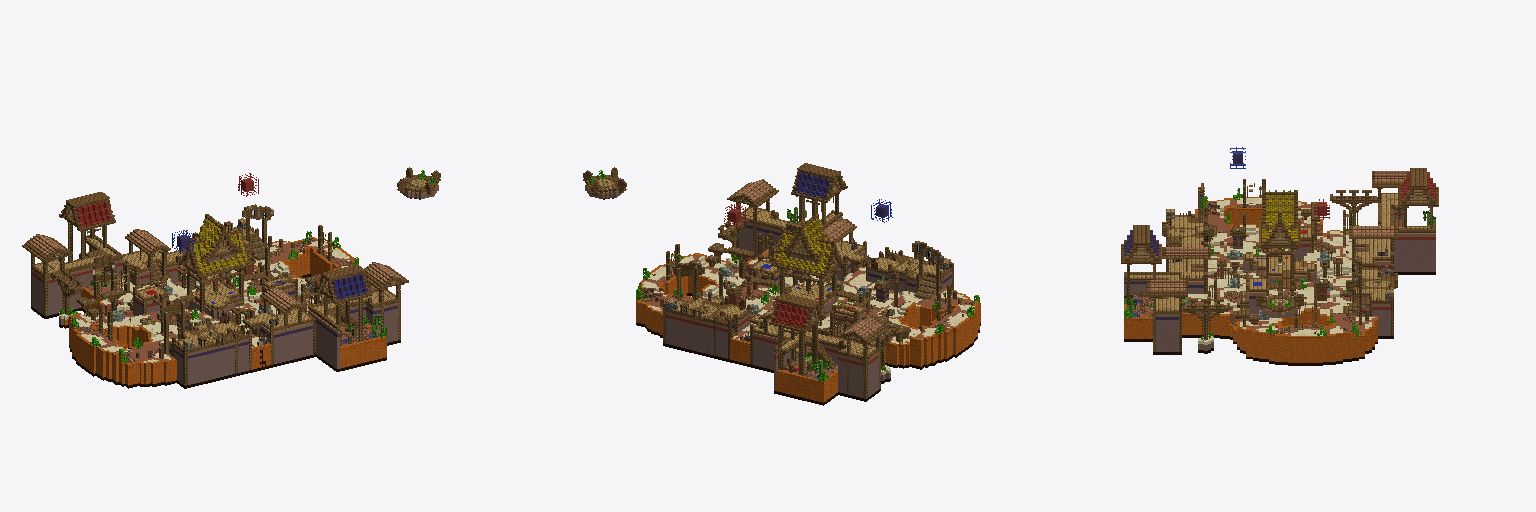
3 views of the same model, side by side, from view 1: azimuth 30°, elevation 25°; view 2: azimuth 150°, elevation 25°; view 3: azimuth 270°, elevation 25° (orthographic).
Bounding box in the file's own units: 132 × 41 × 99.
Materials: 84 (80 with a texture image).